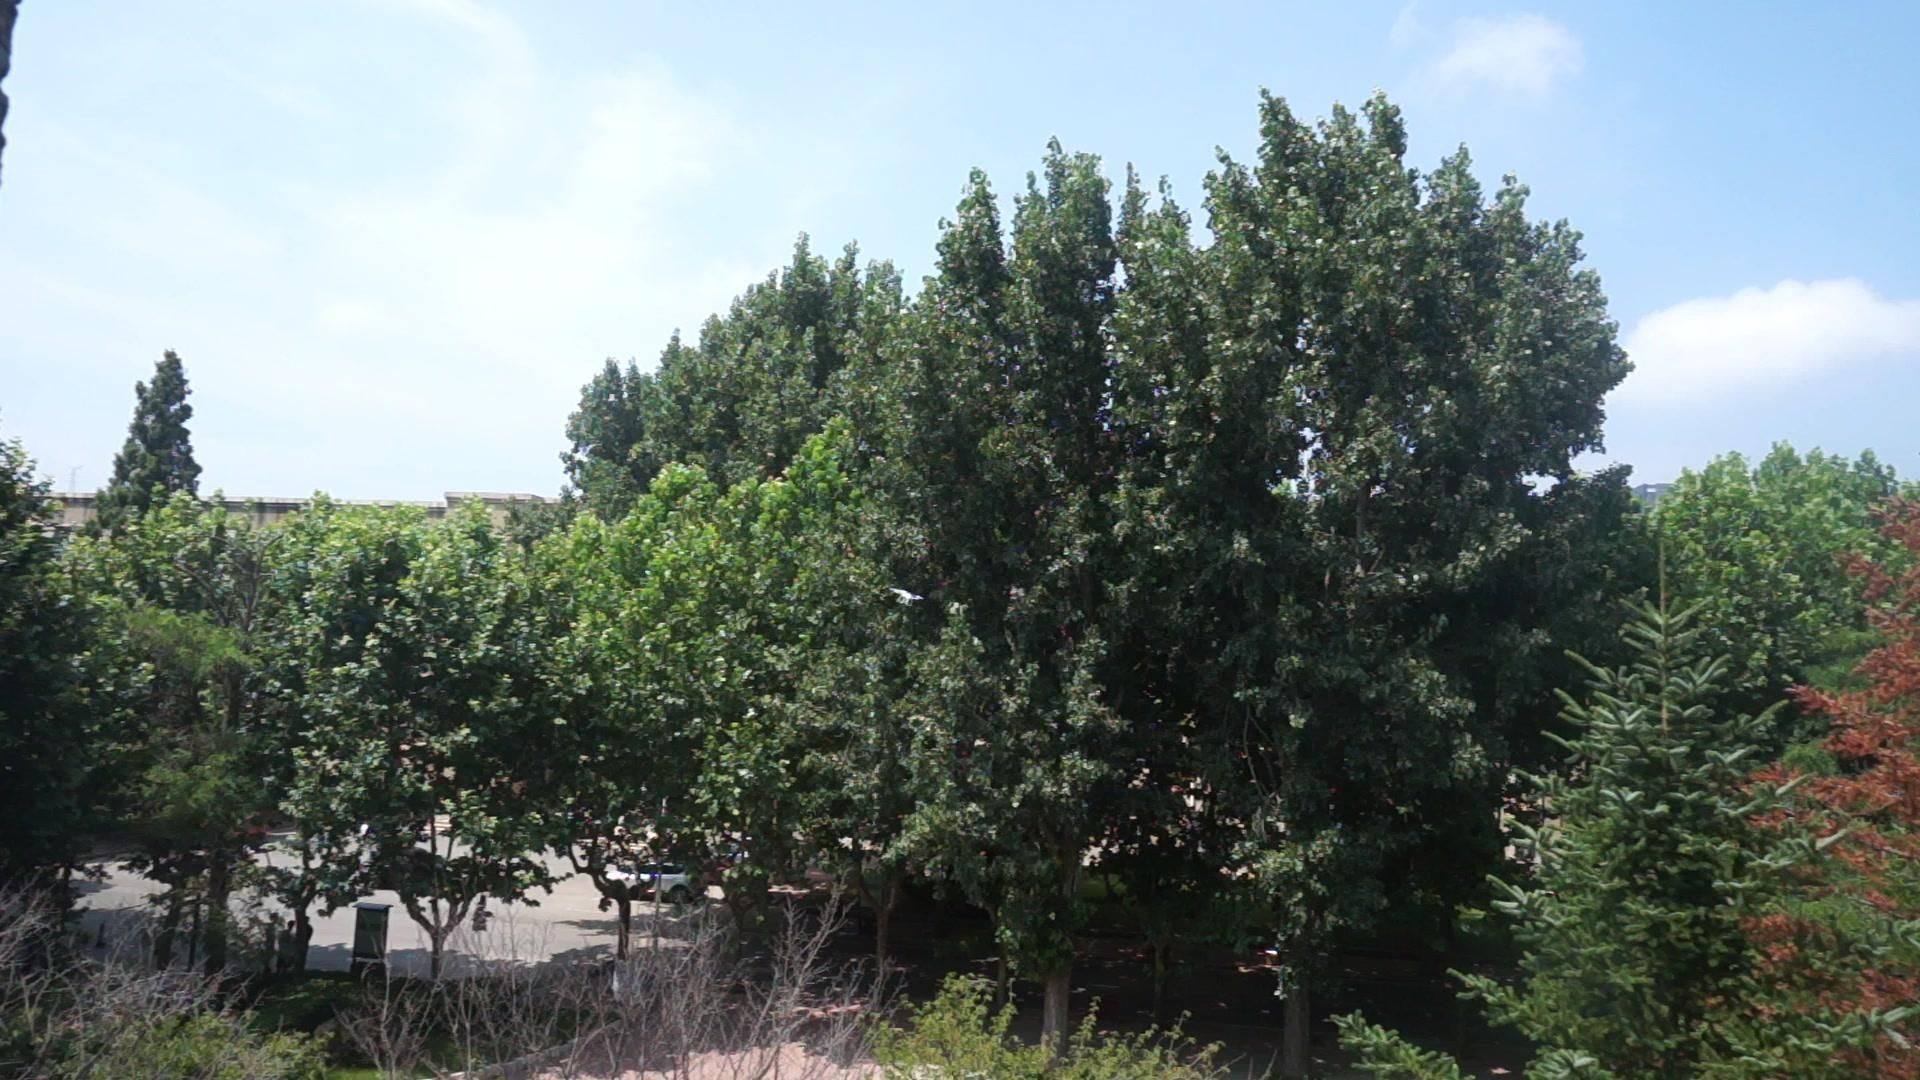UAV: (891, 589, 924, 607)
